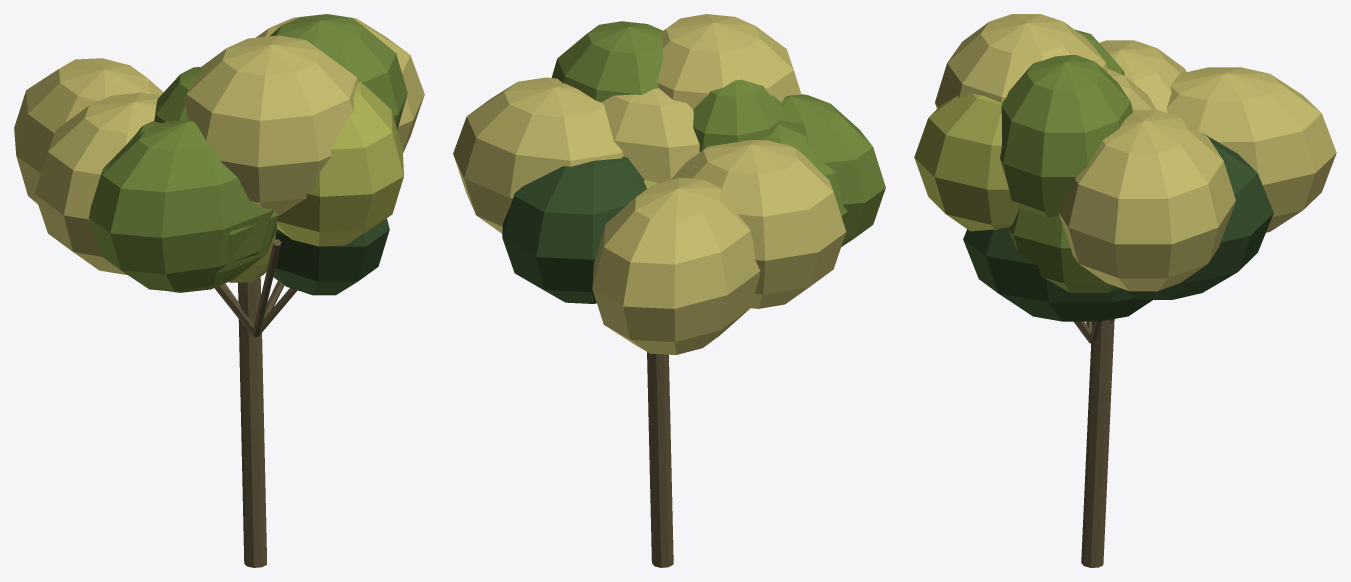
The model's file is Forest_BacklitTree_07.obj.
The picture shows the model from 3 angles, left to right: view 1: azimuth 30°, elevation 25°; view 2: azimuth 150°, elevation 25°; view 3: azimuth 270°, elevation 25°; orthographic projection. The views are drawn at different scales.
Parts seen in each view (by area): view 1: Forest_BacklitTree_07; view 2: Forest_BacklitTree_07; view 3: Forest_BacklitTree_07.
Boxes of the visible parts, box(x1,y1,x2,y2) form: Forest_BacklitTree_07: box(14, 14, 424, 567); Forest_BacklitTree_07: box(453, 14, 885, 567); Forest_BacklitTree_07: box(914, 14, 1336, 567).
Size of the model in its own units: 6.19 by 8.71 by 6.27.
Materials: 1 (1 with a texture image).
